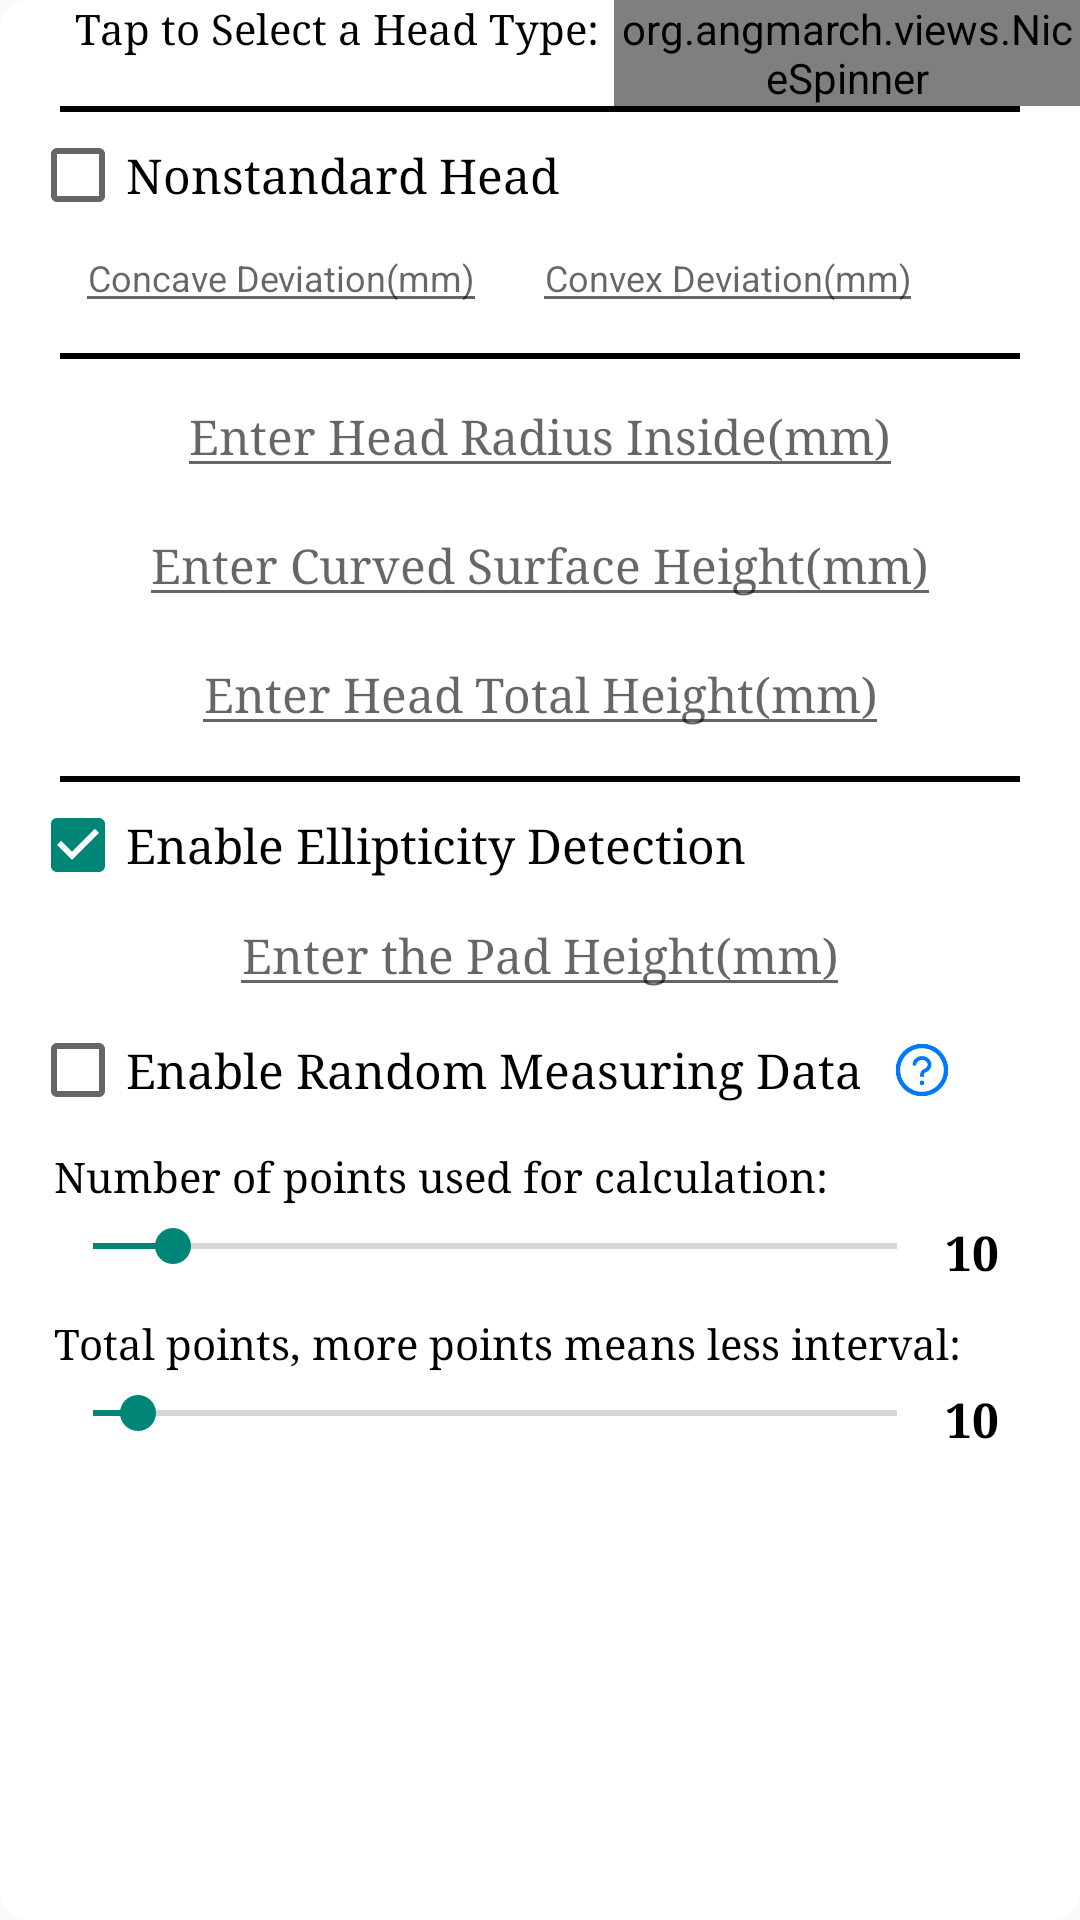

Where icons sit on this 1080w x 1920h app screen, as detection(x1, y1, x2, y2):
edition question: detection(896, 1044, 948, 1096)
